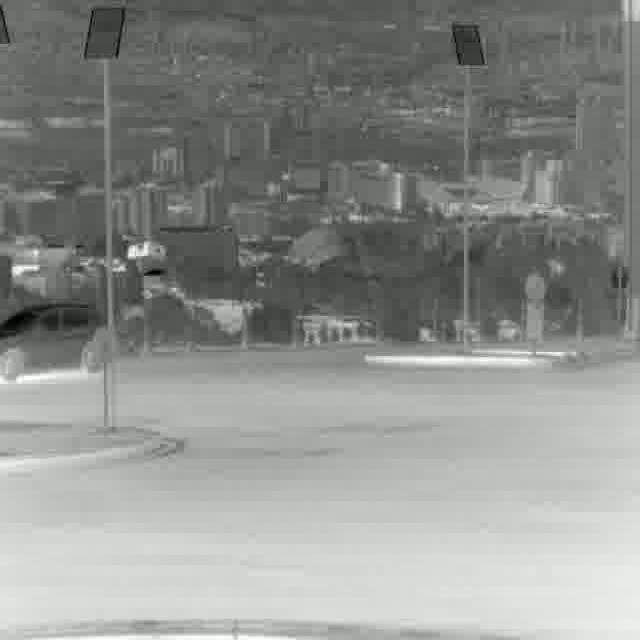Car: (0, 301, 106, 387)
